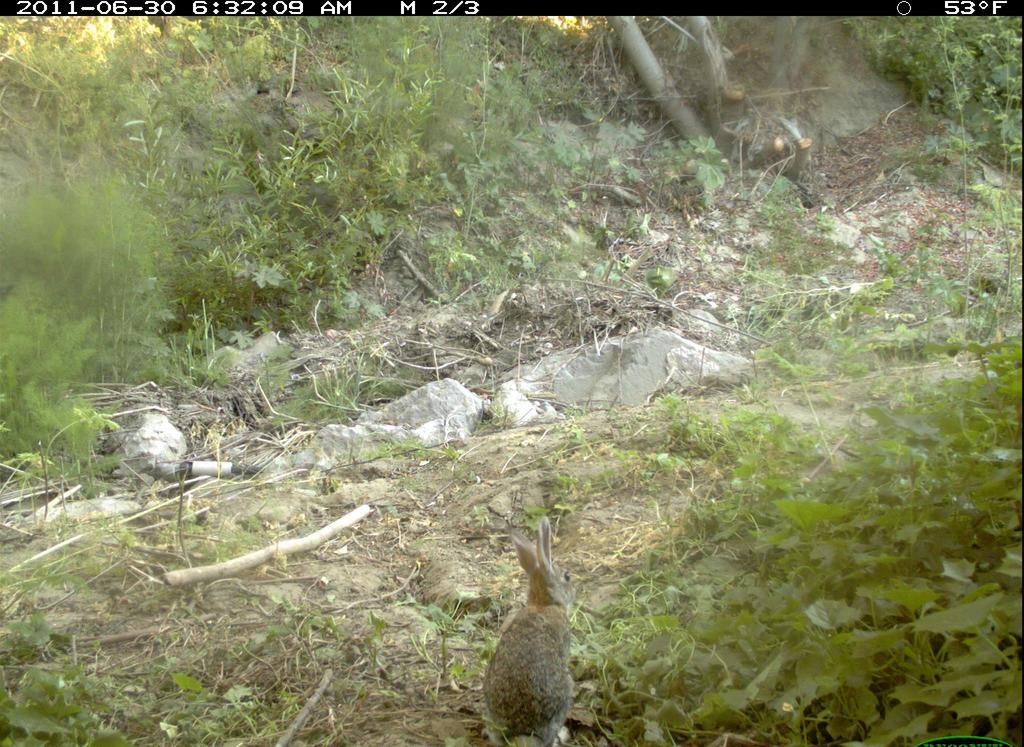rabbit: (484, 489, 582, 745)
